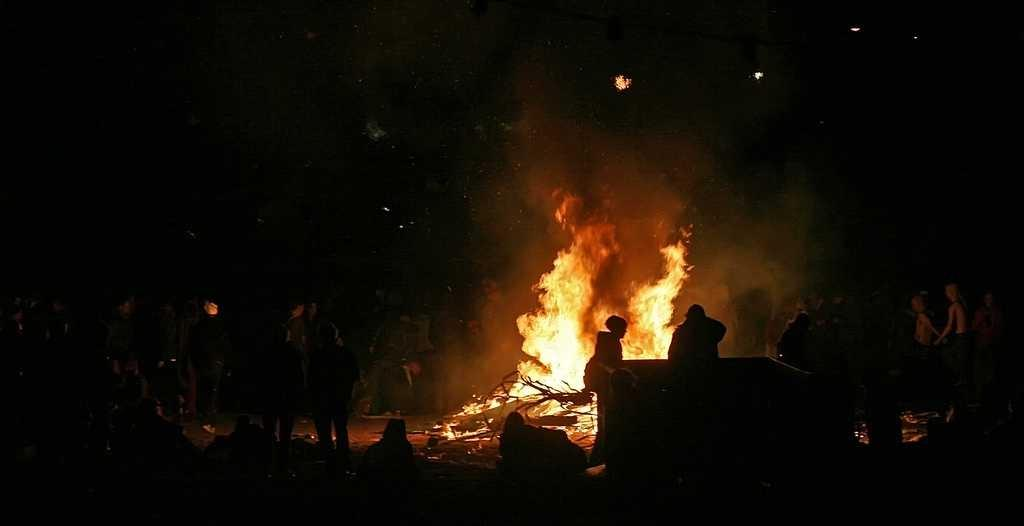fire: (534, 283, 590, 380), (634, 287, 669, 357)
smoke: (630, 140, 716, 233)
